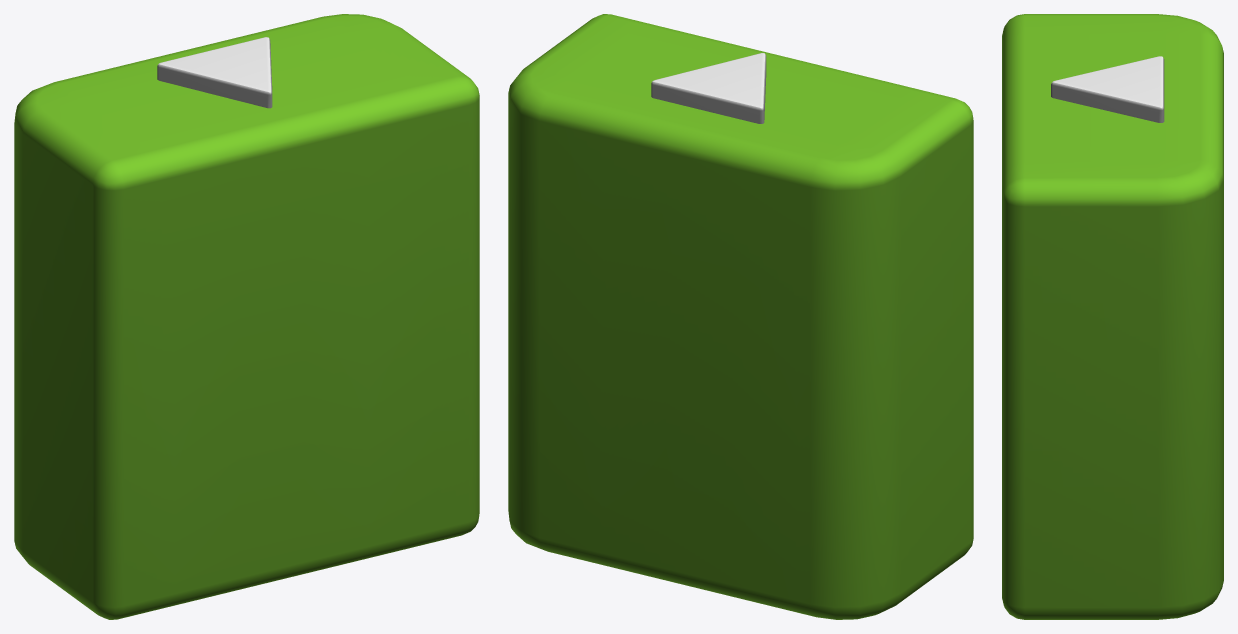
File: Blast_Green.fbx
3 views of the same model, side by side, from view 1: azimuth 30°, elevation 25°; view 2: azimuth 150°, elevation 25°; view 3: azimuth 270°, elevation 25° (orthographic). The views are drawn at different scales.
Visible parts, largest first — view 1: Blast_Green; view 2: Blast_Green; view 3: Blast_Green.
Part boxes in pixels (x1=…): Blast_Green: x1=14, y1=14, x2=479, y2=619; Blast_Green: x1=508, y1=14, x2=973, y2=619; Blast_Green: x1=1002, y1=14, x2=1223, y2=619.
Size of the model in its own units: 1.01 by 1.19 by 0.525.
Materials: 1 (1 with a texture image).
